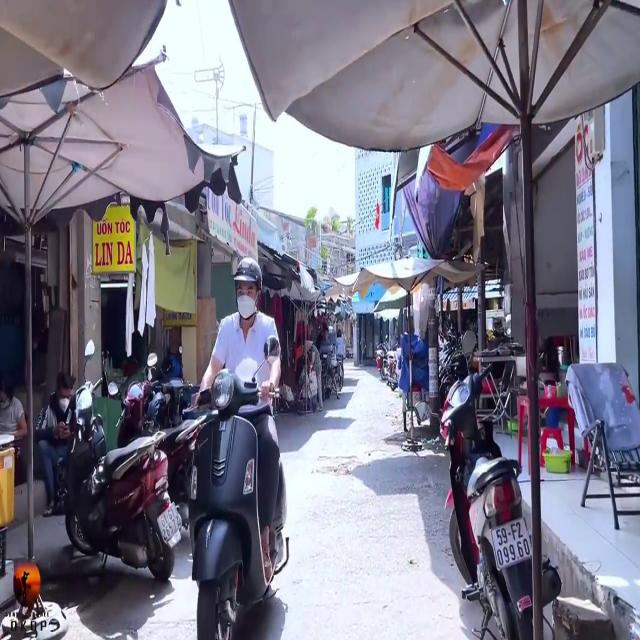bien_trang: (488, 517, 534, 575)
